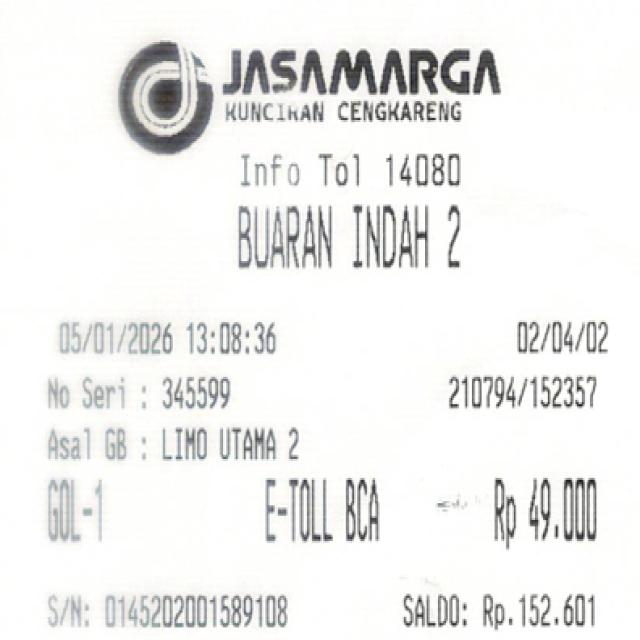date: (40, 310, 298, 377)
store: (194, 32, 507, 132)
total: (474, 466, 612, 547)
